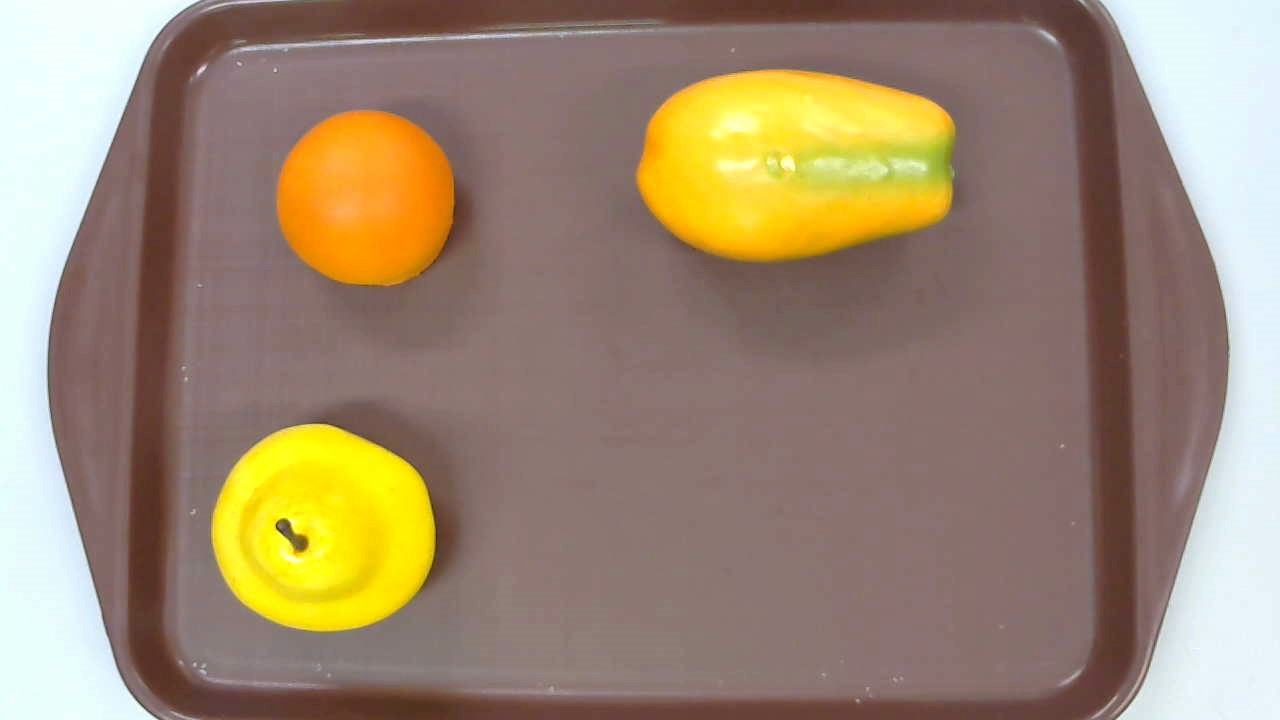bun: (276, 110, 453, 286)
papya: (635, 68, 957, 265)
yellow pear: (211, 421, 434, 630)
